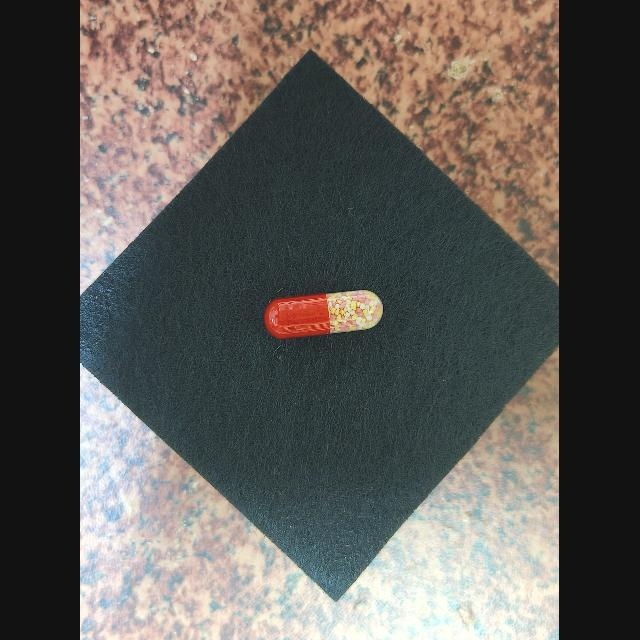Intact Capsule: (265, 290, 384, 339)
